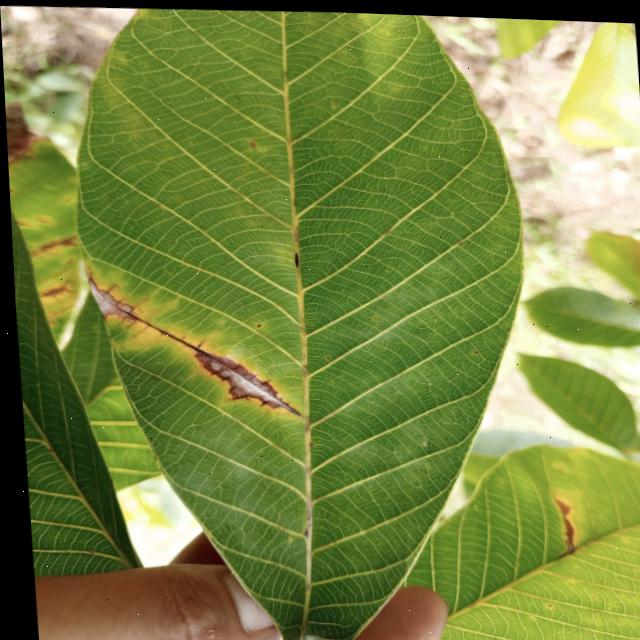Colletotrichum: (253, 322, 257, 325), (322, 354, 326, 356), (471, 347, 475, 349), (370, 314, 372, 316)
Corynespora: (189, 343, 297, 416), (123, 309, 203, 350)
Leaf-Blight: (84, 277, 131, 319), (549, 494, 570, 534)
